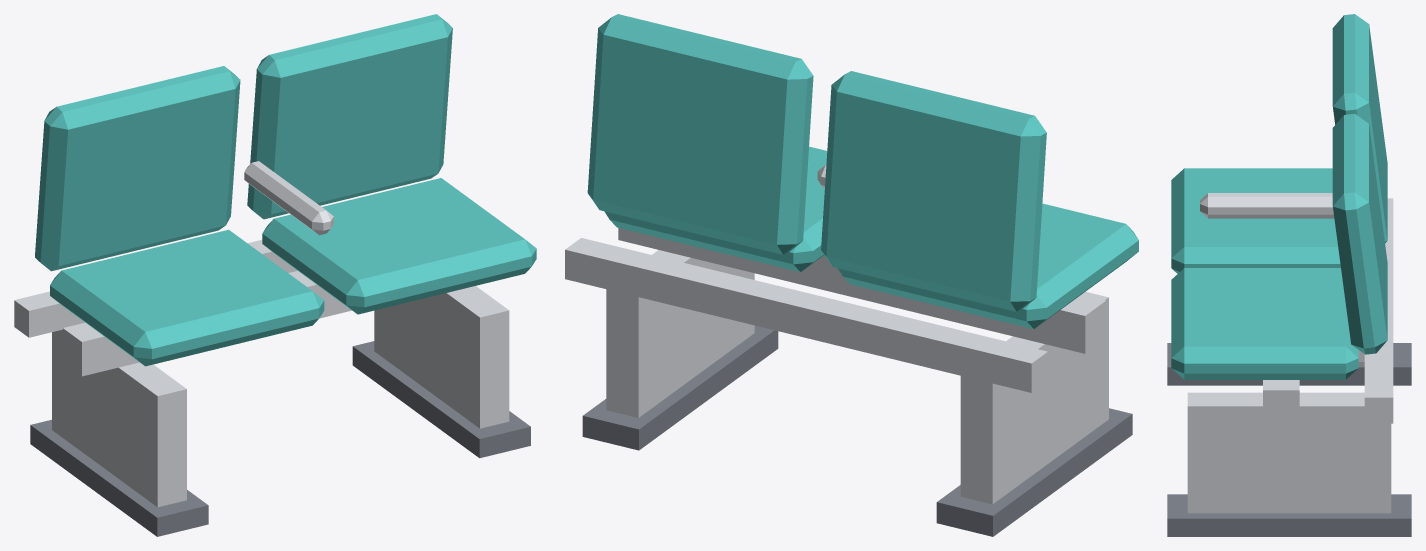
Rendered from waiting-bench-two-seat.glb.
3 renders of one model, left to right at view 1: azimuth 30°, elevation 25°; view 2: azimuth 150°, elevation 25°; view 3: azimuth 270°, elevation 25°, orthographic. The views are drawn at different scales.
Parts seen in each view (by area): view 1: waiting-bench-two-seat; view 2: waiting-bench-two-seat; view 3: waiting-bench-two-seat.
Part boxes in pixels (<box>): waiting-bench-two-seat: <box>14,14,536,536</box>; waiting-bench-two-seat: <box>565,14,1138,536</box>; waiting-bench-two-seat: <box>1167,14,1411,536</box>.
Size of the model in its own units: 1.16 by 0.9385 by 0.6.
